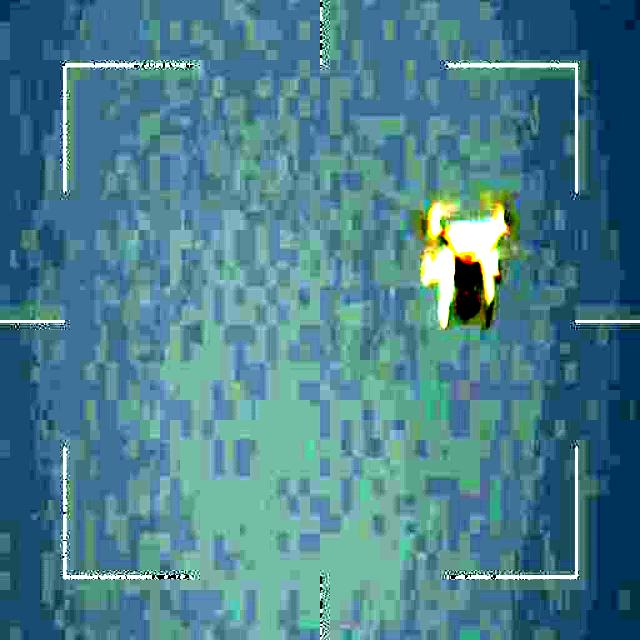bird: (408, 201, 524, 332)
